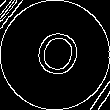O_S: (26, 24, 84, 86)
